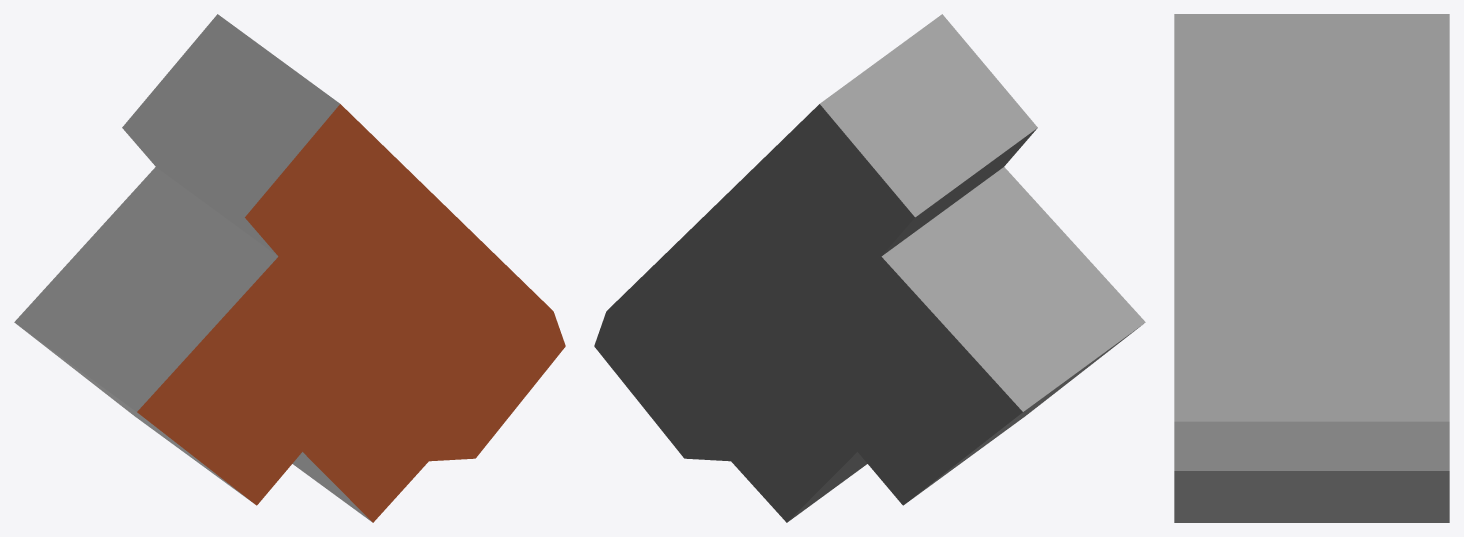
Rendered from construction_3941_assumed_A_Casa_h6m.obj.
The picture shows the model from 3 angles, left to right: view 1: azimuth 30°, elevation 25°; view 2: azimuth 150°, elevation 25°; view 3: azimuth 270°, elevation 25°; orthographic projection. The views are drawn at different scales.
Visible parts, largest first — view 1: construction_3941_assumed_A_Casa; view 2: construction_3941_assumed_A_Casa; view 3: construction_3941_assumed_A_Casa.
Part boxes in pixels (x1,y1,x2,y2): construction_3941_assumed_A_Casa: (14,14,565,522); construction_3941_assumed_A_Casa: (594,14,1145,522); construction_3941_assumed_A_Casa: (1174,14,1449,522).
Size of the model in its own units: 12.11 by 11.52 by 6.
